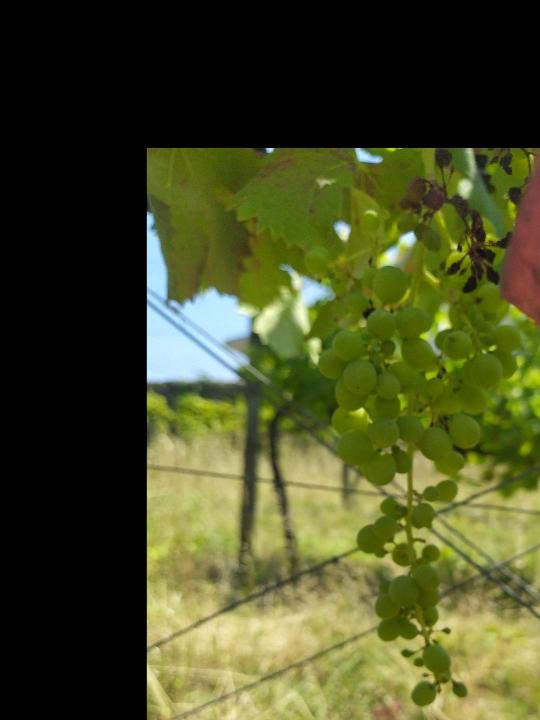grape: (299, 208, 530, 715), (401, 150, 538, 297)
